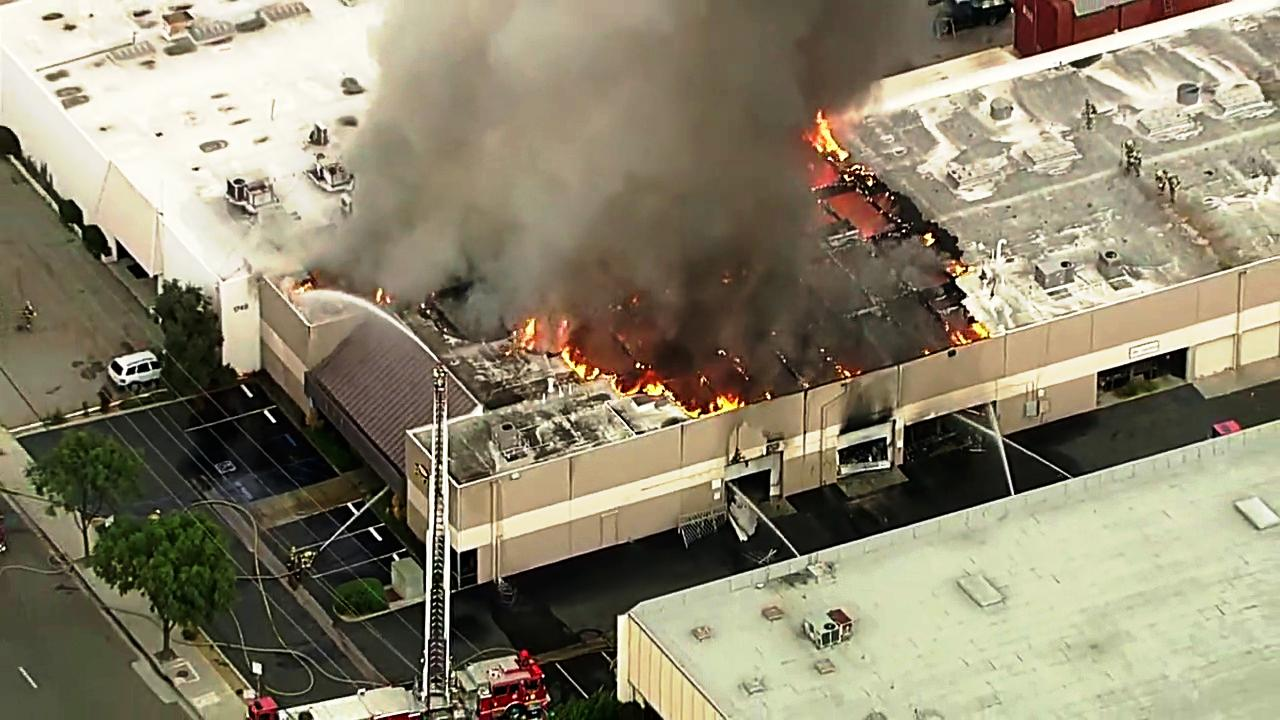smoke: (535, 0, 805, 248)
